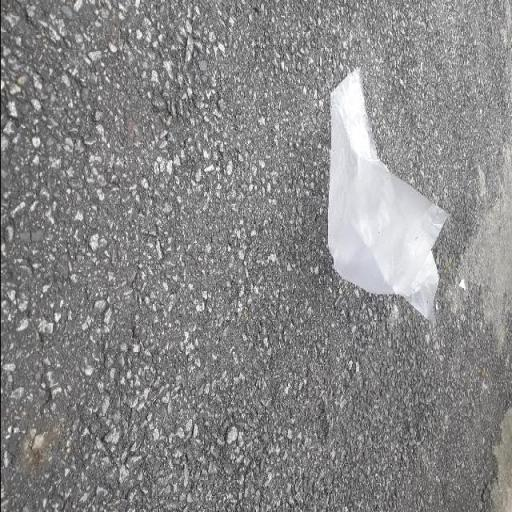plastic-bag: (324, 60, 450, 326)
